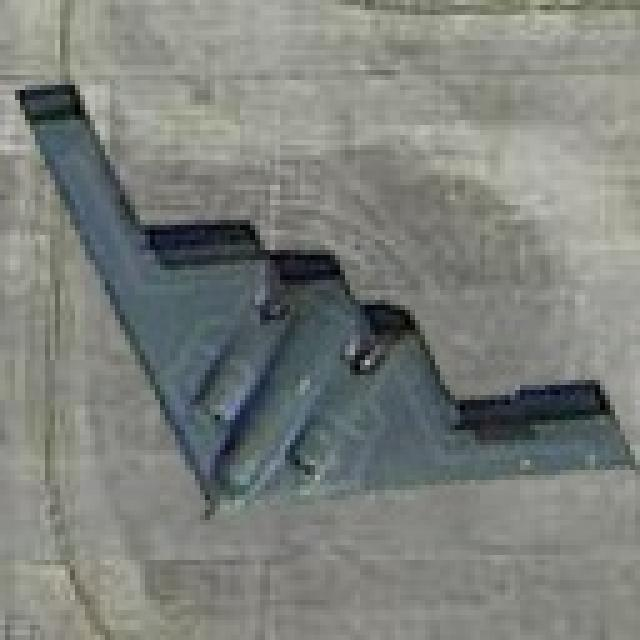B-2_TopDown: (10, 75, 635, 520)
